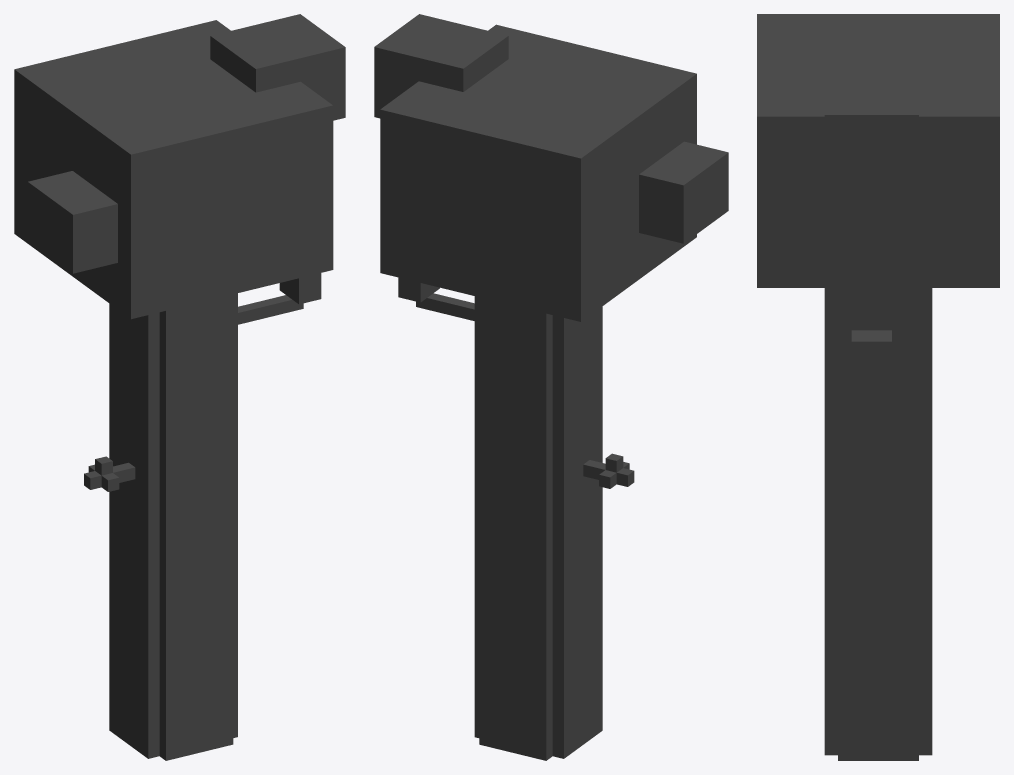
File: tree1.obj
The picture shows the model from 3 angles, left to right: view 1: azimuth 30°, elevation 25°; view 2: azimuth 150°, elevation 25°; view 3: azimuth 270°, elevation 25°; orthographic projection. The views are drawn at different scales.
Visible parts, largest first — view 1: tree1; view 2: tree1; view 3: tree1.
Boxes of the visible parts, x1,y1,x2,y2 form: tree1: (14,14,345,760); tree1: (374,14,728,760); tree1: (757,14,999,760).
Bounding box in the file's own units: 26 × 57 × 18.
